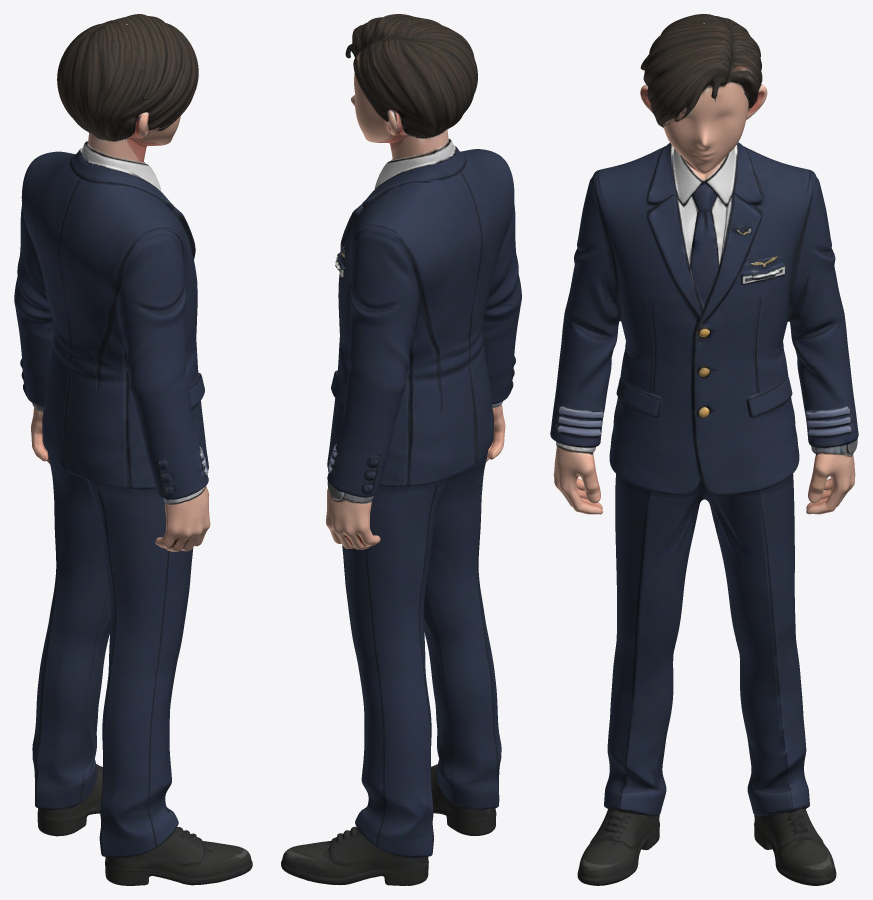
Rendered from pilot+uniform+3d+model.glb.
3 views of the same model, side by side, from view 1: azimuth 30°, elevation 25°; view 2: azimuth 150°, elevation 25°; view 3: azimuth 270°, elevation 25° (orthographic).
Visible parts, largest first — view 1: tripo_node_5a58d964-5995-41f5-a6e2-bded5f9d1923; view 2: tripo_node_5a58d964-5995-41f5-a6e2-bded5f9d1923; view 3: tripo_node_5a58d964-5995-41f5-a6e2-bded5f9d1923.
Part boxes in pixels (left/top/right/bottom): tripo_node_5a58d964-5995-41f5-a6e2-bded5f9d1923: left=14, top=14, right=252, bottom=885; tripo_node_5a58d964-5995-41f5-a6e2-bded5f9d1923: left=281, top=14, right=521, bottom=885; tripo_node_5a58d964-5995-41f5-a6e2-bded5f9d1923: left=550, top=14, right=858, bottom=885.
Size of the model in its own units: 0.1782 by 1 by 0.3355.
1 material, 1 textured.
